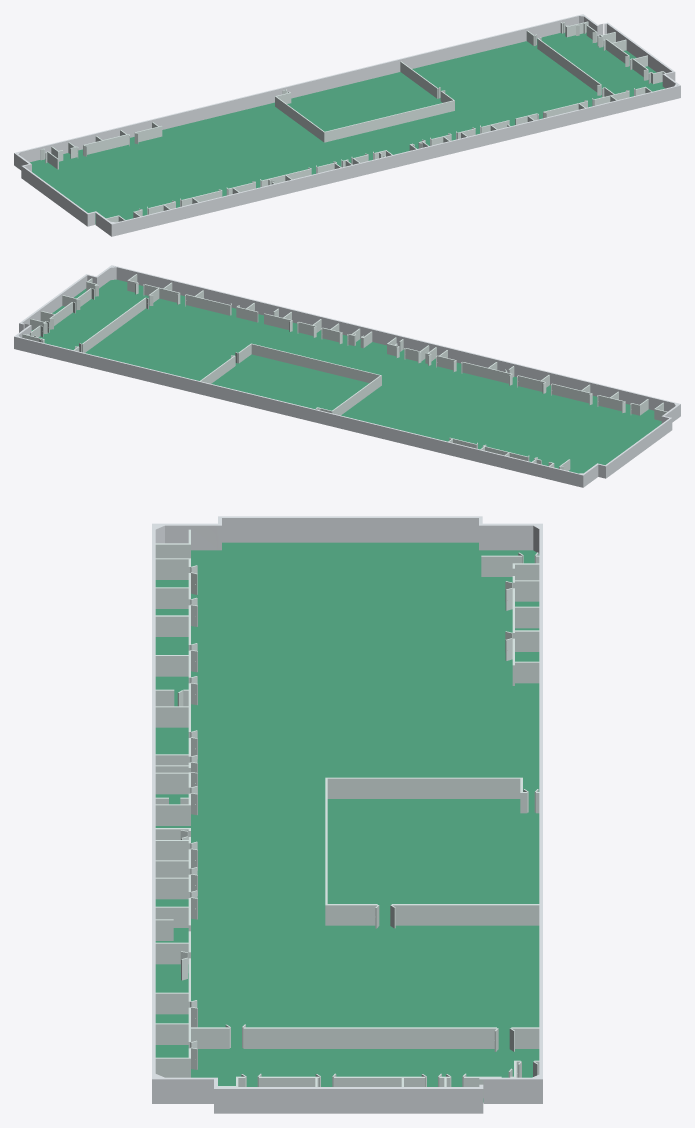
Rendered from wall-bk.glb.
The picture shows the model from 3 angles, top to bottom: view 1: azimuth 30°, elevation 25°; view 2: azimuth 150°, elevation 25°; view 3: azimuth 270°, elevation 25°; orthographic projection. The views are drawn at different scales.
Visible parts, largest first — view 1: 平面.1, 立方体.1, 立方体.65, 立方体.58, 立方体.66, 立方体.72, 立方体.63; view 2: 平面.1, 立方体.1, 立方体.65, 立方体.58, 立方体.66, 立方体.6, 立方体.39, 立方体.9, 立方体.63; view 3: 平面.1, 立方体.1, 立方体.58, 立方体.66, 立方体.63, 立方体.64, 立方体.48.
Boxes of the visible parts, box(x1,y1,x2,y2) form: 平面.1: box(30, 32, 664, 223); 立方体.1: box(14, 14, 680, 236); 立方体.65: box(323, 100, 454, 142); 立方体.58: box(537, 38, 601, 94); 立方体.66: box(275, 96, 324, 141); 立方体.72: box(83, 134, 129, 154); 立方体.63: box(400, 61, 438, 98); 平面.1: box(31, 279, 661, 473); 立方体.1: box(14, 265, 680, 487); 立方体.65: box(251, 343, 381, 385); 立方体.58: box(82, 297, 146, 352); 立方体.66: box(331, 375, 381, 415); 立方体.6: box(462, 362, 512, 383); 立方体.39: box(186, 294, 230, 315); 立方体.9: box(551, 383, 592, 403); 立方体.63: box(200, 355, 235, 383); 平面.1: box(155, 542, 539, 1102); 立方体.1: box(152, 516, 542, 1113); 立方体.58: box(243, 1027, 496, 1048); 立方体.66: box(327, 777, 520, 798); 立方体.63: box(391, 904, 539, 925); 立方体.64: box(325, 904, 377, 925); 立方体.48: box(334, 1076, 425, 1086).
Bounding box in the file's own units: 5065 × 103 × 1461.
